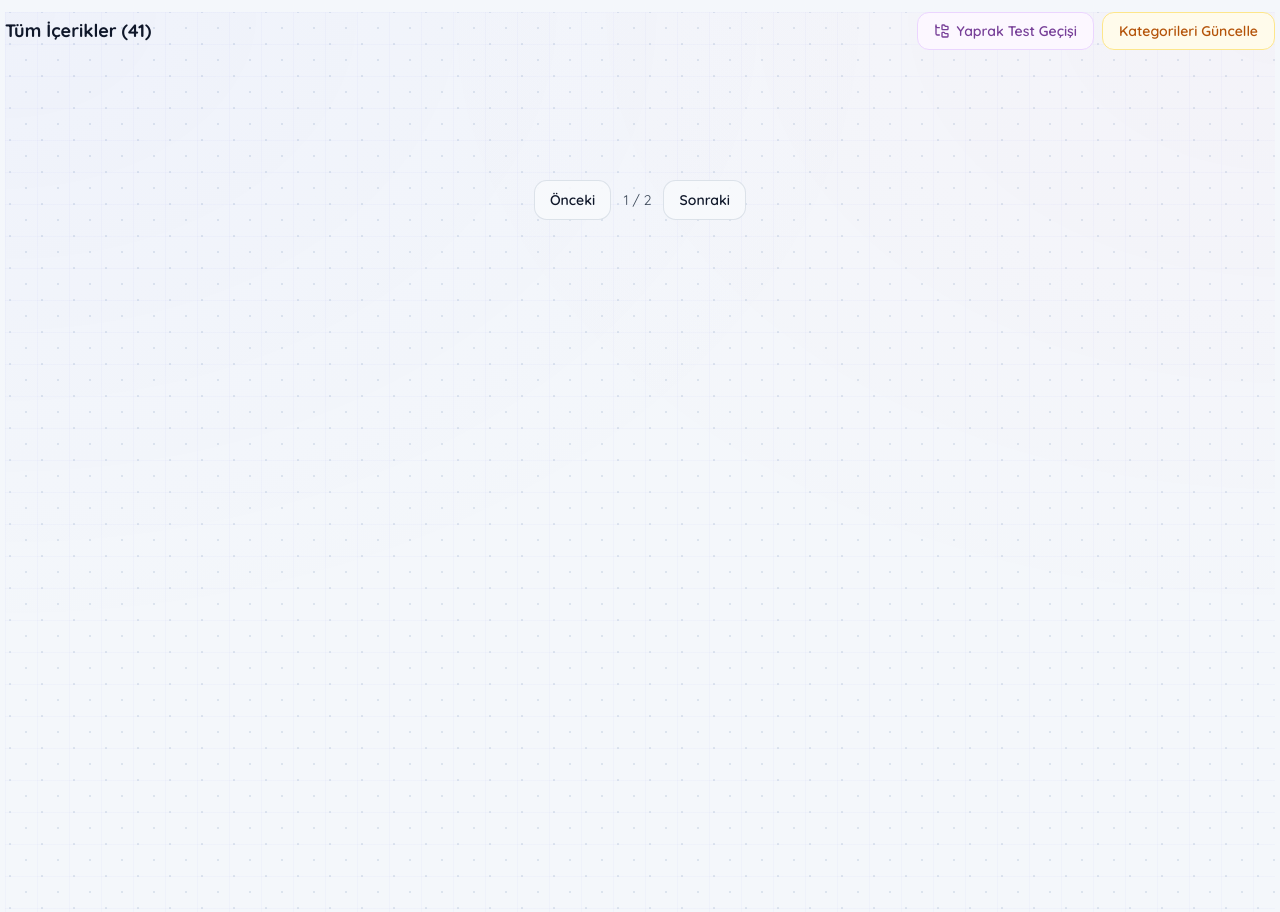
içerikleri veritabanından sayfalar ve gerçek toplamı gösterir
Check: the heading "Tüm İçerikler (41)" is shown, box [5, 17, 152, 45]
Click the button "Sonraki": (705, 200) [663, 180, 746, 220]
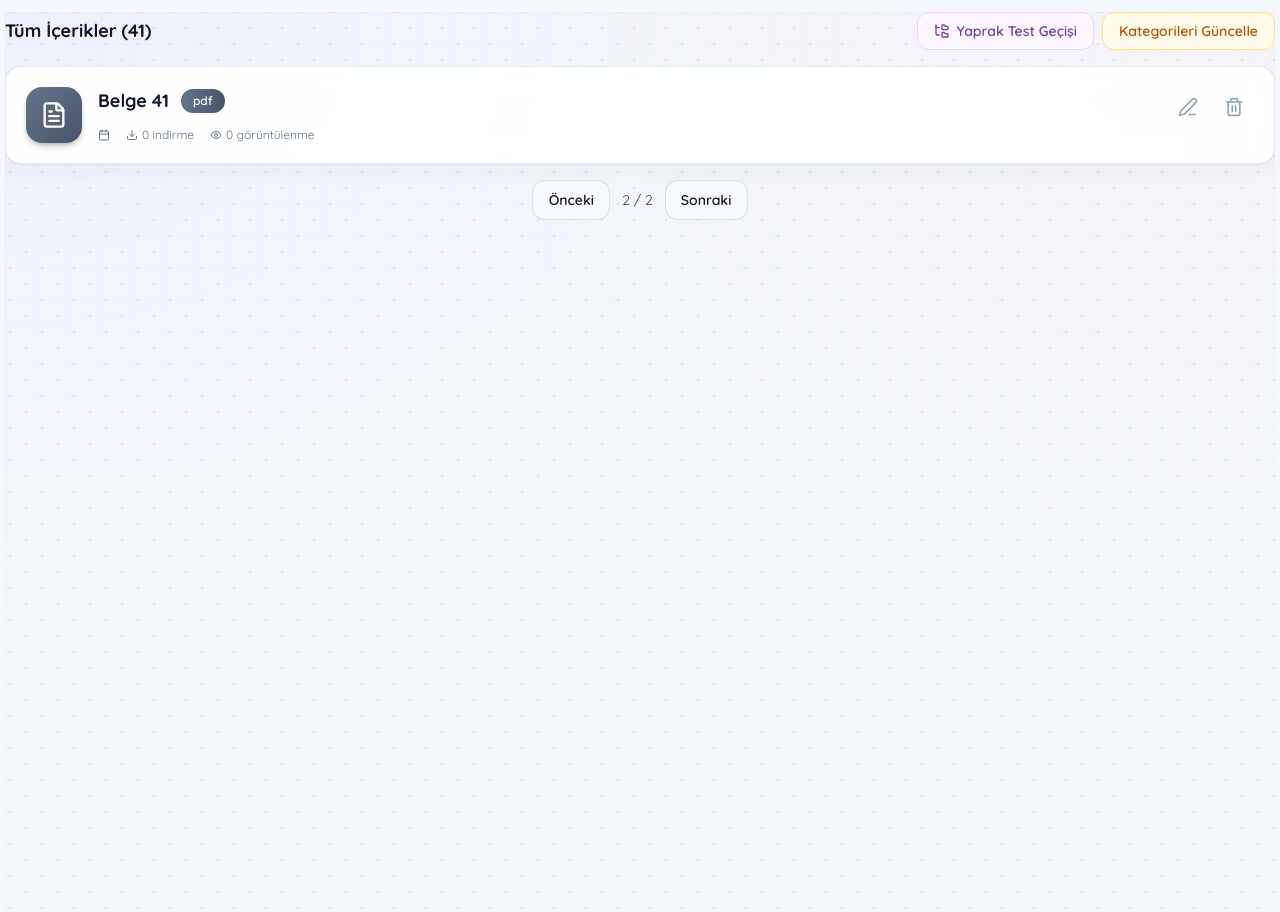
Check: the heading "Belge 41" is shown, box [98, 87, 169, 115]
